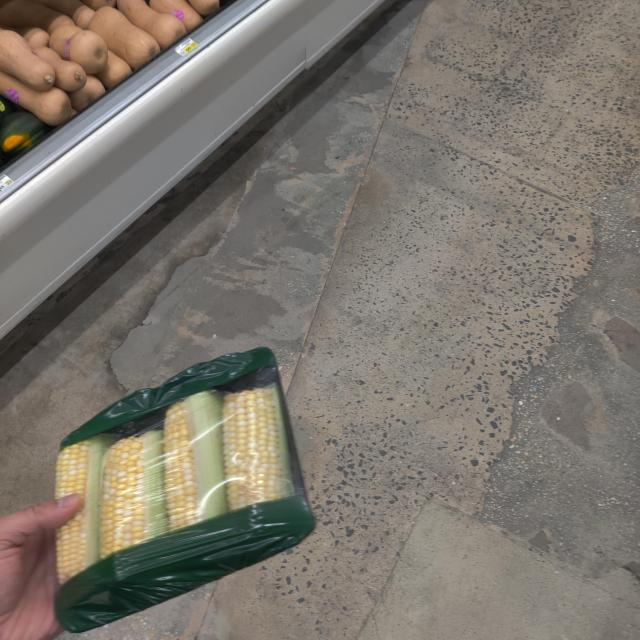Corn: (48, 342, 324, 640)
